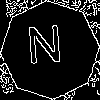N: (25, 25, 64, 73)
